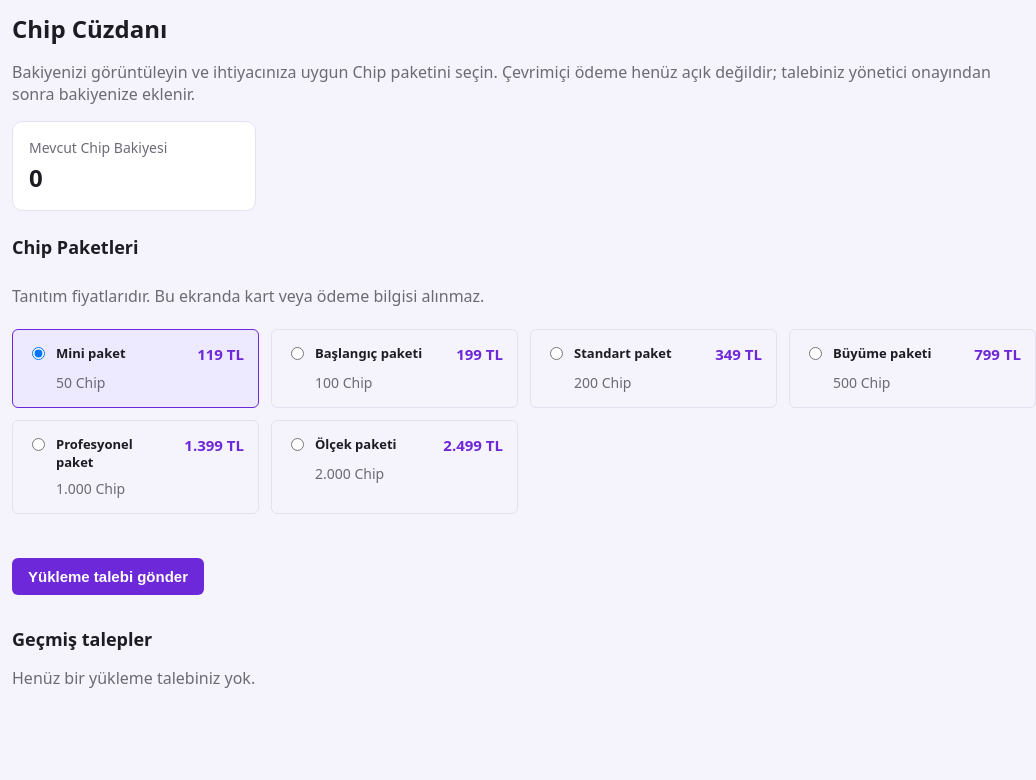
Test: ChipTopUp › sahte kart alanlarini gostermez ve yalnizca secilen paketi gonderir
The width and height of the screenshot is (1036, 780).
Check: the text "Büyüme paketi" is shown, box [833,344,932,362]
Check: the text "çevrimiçi ödeme henüz açık değildir" is shown, box [12,61,991,105]
Click the button "Yükleme talebi gönder": (108, 576) [12,558,204,595]
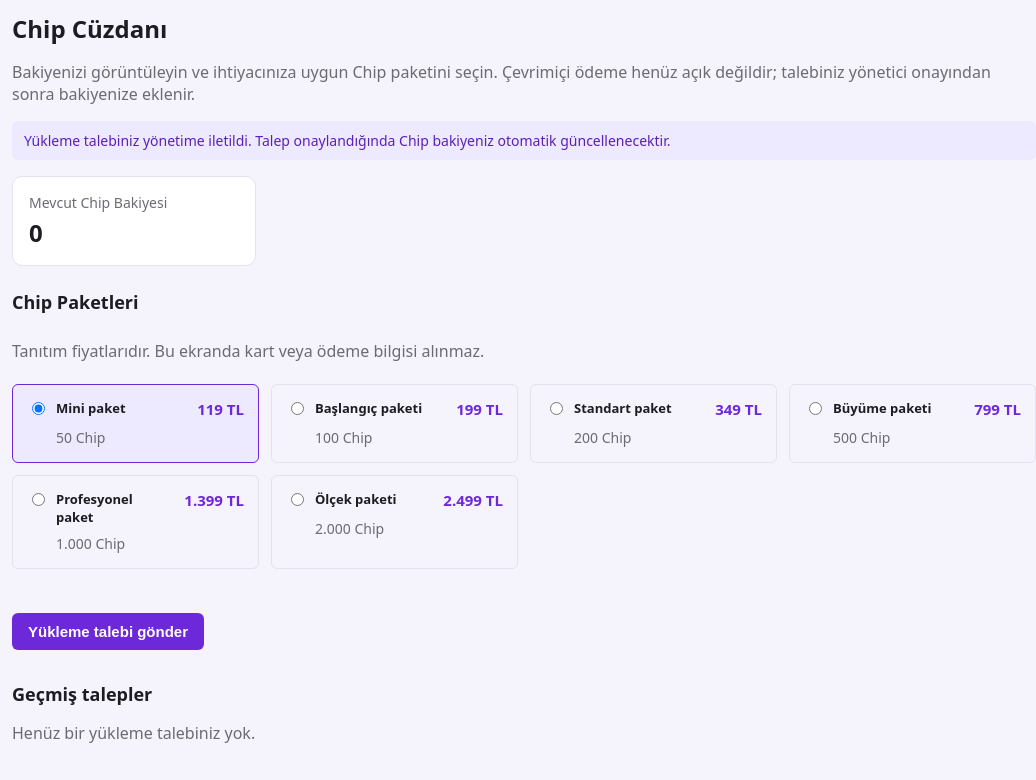
Check: the text "talebiniz yönetime iletildi" is shown, box [24,131,670,150]
